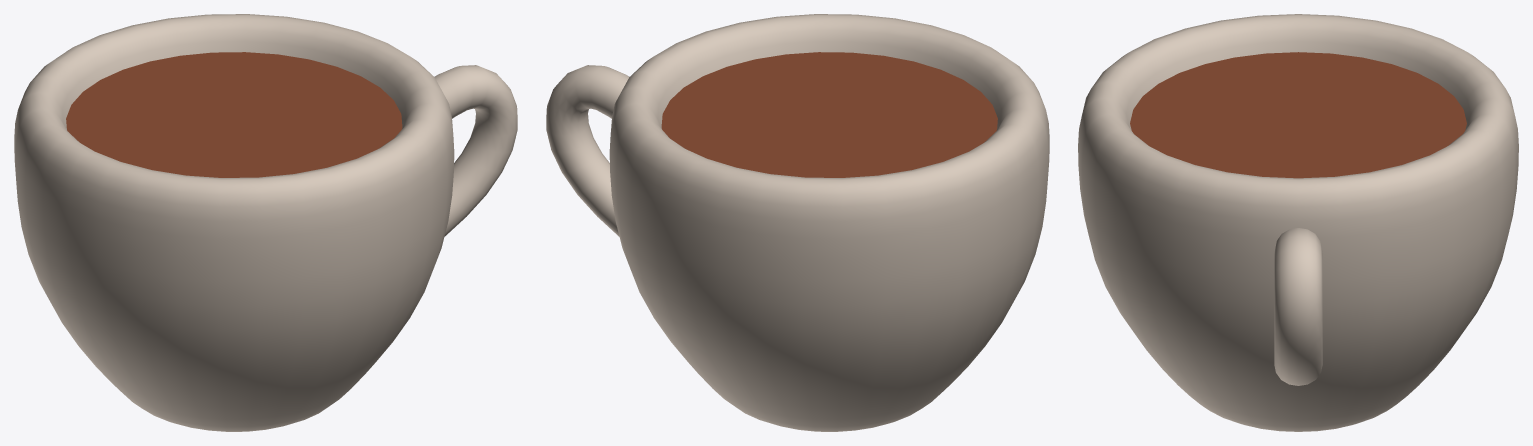
Rendered from SM_coffee_cup_full.glb.
The picture shows the model from 3 angles, left to right: view 1: azimuth 30°, elevation 25°; view 2: azimuth 150°, elevation 25°; view 3: azimuth 270°, elevation 25°; orthographic projection.
Parts seen in each view (by area): view 1: SM_coffee_cup_full; view 2: SM_coffee_cup_full; view 3: SM_coffee_cup_full.
Part boxes in pixels (box(x1,y1,x2,y2)): SM_coffee_cup_full: box(14, 14, 517, 431); SM_coffee_cup_full: box(546, 14, 1049, 431); SM_coffee_cup_full: box(1078, 14, 1518, 431).
Bounding box in the file's own units: 0.1683 × 0.102 × 0.1365.
Materials: 1 (1 with a texture image).
